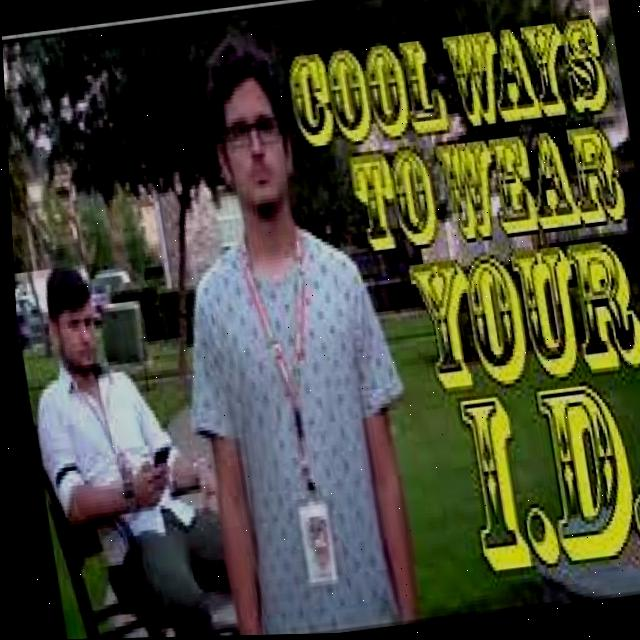id_card: (214, 222, 362, 603)
